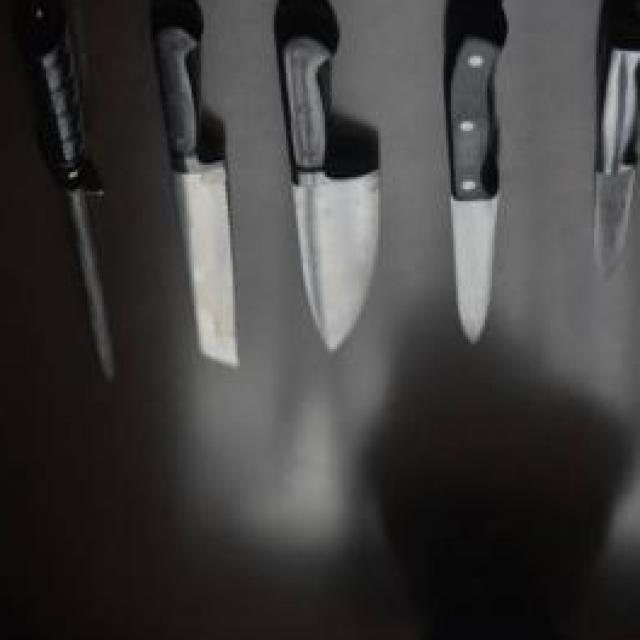knife: (140, 2, 260, 376), (267, 0, 383, 361), (441, 0, 512, 344), (584, 0, 640, 289)
